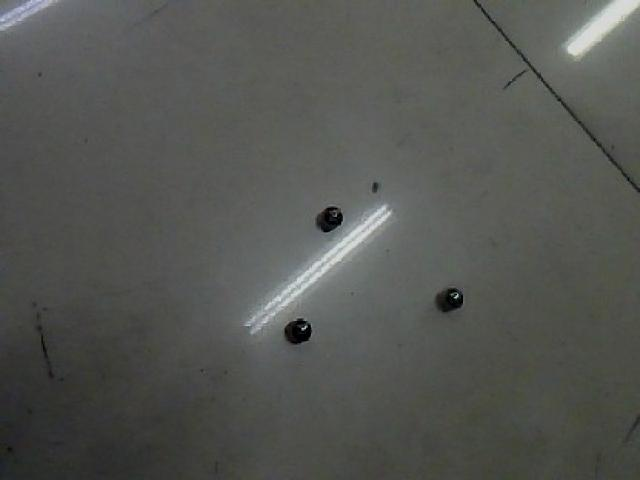steel-ball: (420, 274, 480, 326), (263, 303, 315, 351), (308, 195, 357, 228)
